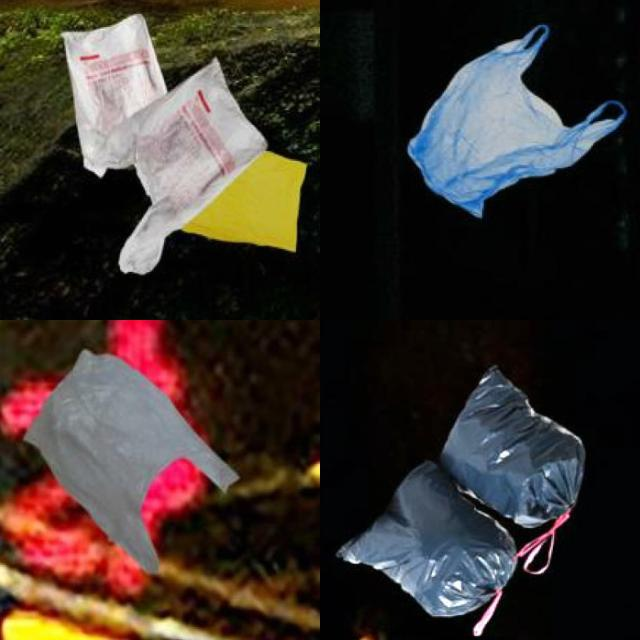Single-layer Plastic: (25, 350, 239, 574), (408, 25, 626, 218), (108, 59, 266, 274), (338, 461, 518, 636), (441, 366, 585, 575), (62, 14, 166, 176)
